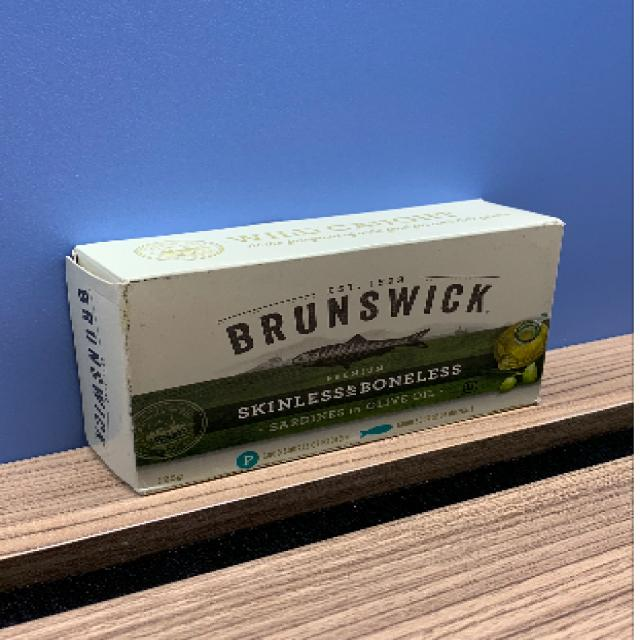object_name: (76, 216, 552, 415)
